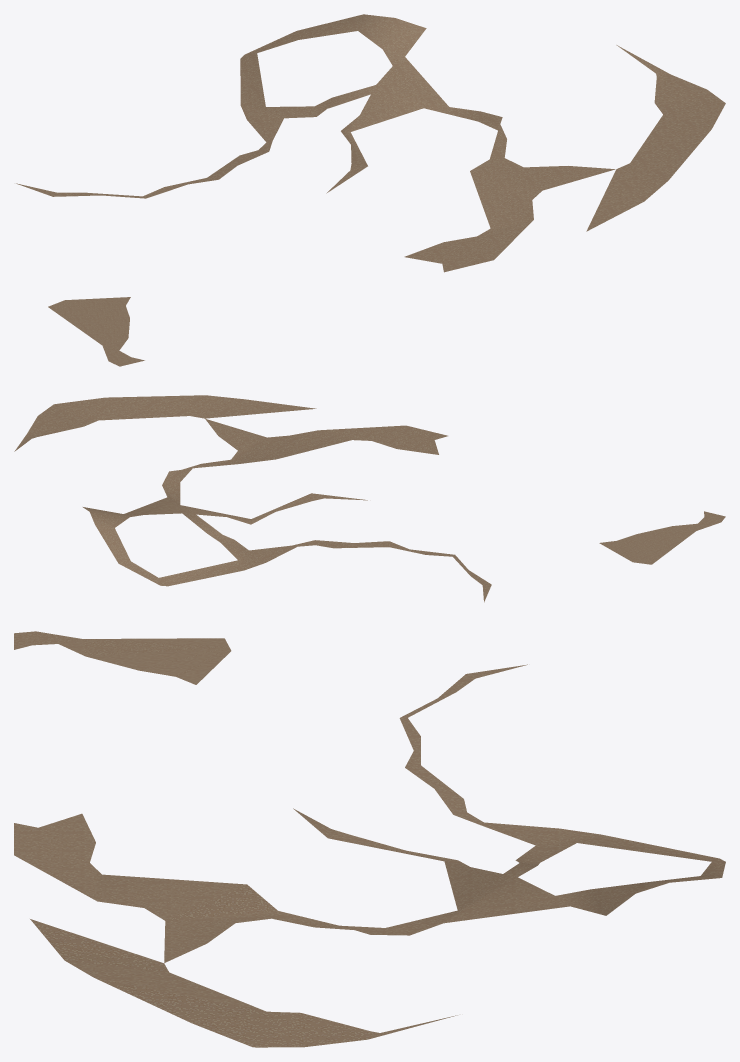
Rendered from kd_stage_13612f_0_19_bounded.glb.
The picture shows the model from 3 angles, top to bottom: view 1: azimuth 30°, elevation 25°; view 2: azimuth 150°, elevation 25°; view 3: azimuth 270°, elevation 25°; orthographic projection. The views are drawn at different scales.
Parts seen in each view (by area): view 1: kd_stage_13612f_0_19_bounded; view 2: kd_stage_13612f_0_19_bounded; view 3: kd_stage_13612f_0_19_bounded.
Part boxes in pixels (x1,y1,x2,y2): kd_stage_13612f_0_19_bounded: [16, 14, 725, 366]; kd_stage_13612f_0_19_bounded: [14, 395, 725, 602]; kd_stage_13612f_0_19_bounded: [14, 631, 725, 1047].
Bounding box in the file's own units: 95.44 × 6.88 × 63.46.
Materials: 1 (1 with a texture image).
